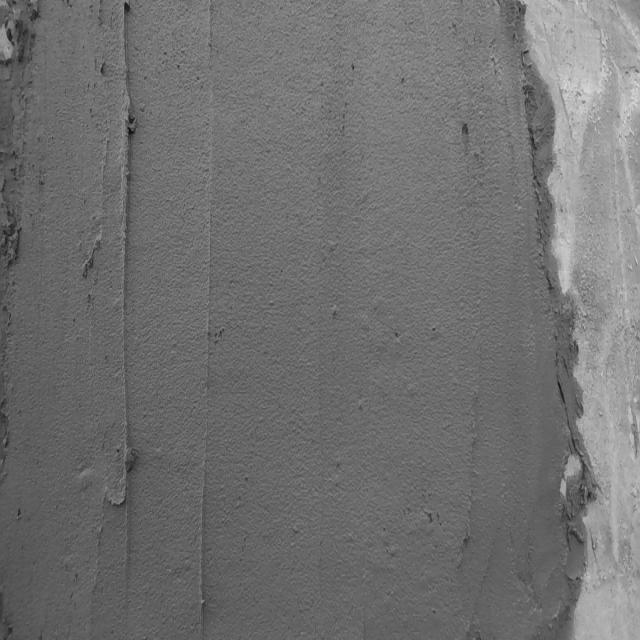trowels marks: (113, 0, 142, 591), (195, 216, 217, 640)
